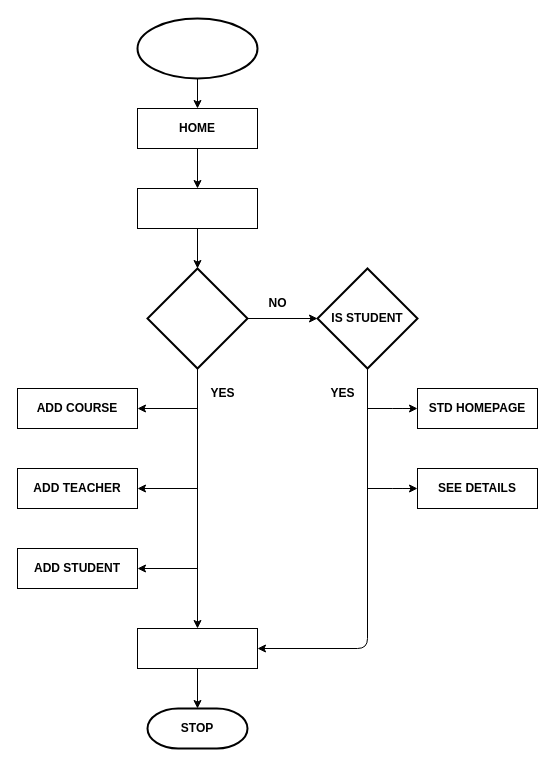
This 555x766 diagram has some shape labels left out. Each missing label, with the box of its shape:
IS ADMIN: (146, 267, 248, 369)
LOGIN: (136, 188, 258, 228)
LOGOUT: (136, 628, 258, 668)
START: (136, 17, 258, 79)
